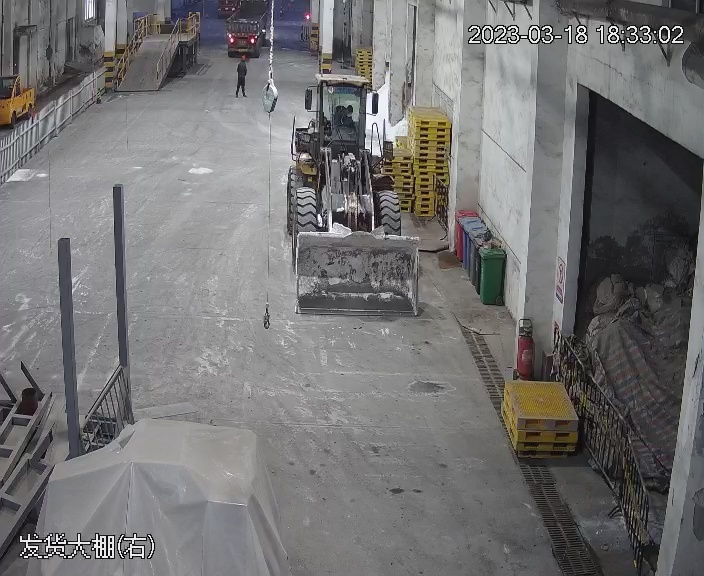head: (236, 51, 249, 67)
helmet: (241, 54, 246, 60)
people: (234, 50, 248, 99)
truck: (219, 1, 275, 60)
